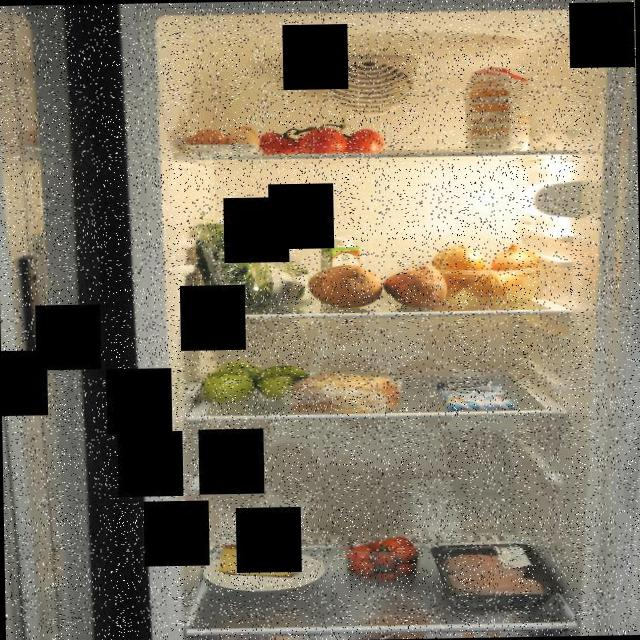Carne pollo: (428, 542, 564, 611)
Cebolla: (426, 238, 544, 306)
Huevos: (187, 124, 262, 155)
Manzana: (198, 358, 316, 404)
Queso: (215, 540, 304, 578)
Tomate: (249, 115, 388, 156)
bread: (286, 369, 406, 415)
chocolate: (434, 378, 516, 411)
heavy_cream: (319, 235, 362, 302)
spinach: (188, 218, 310, 314)
strawberries: (342, 533, 420, 585)
sugar: (458, 65, 534, 154)
sweet_potato: (306, 260, 449, 310)
